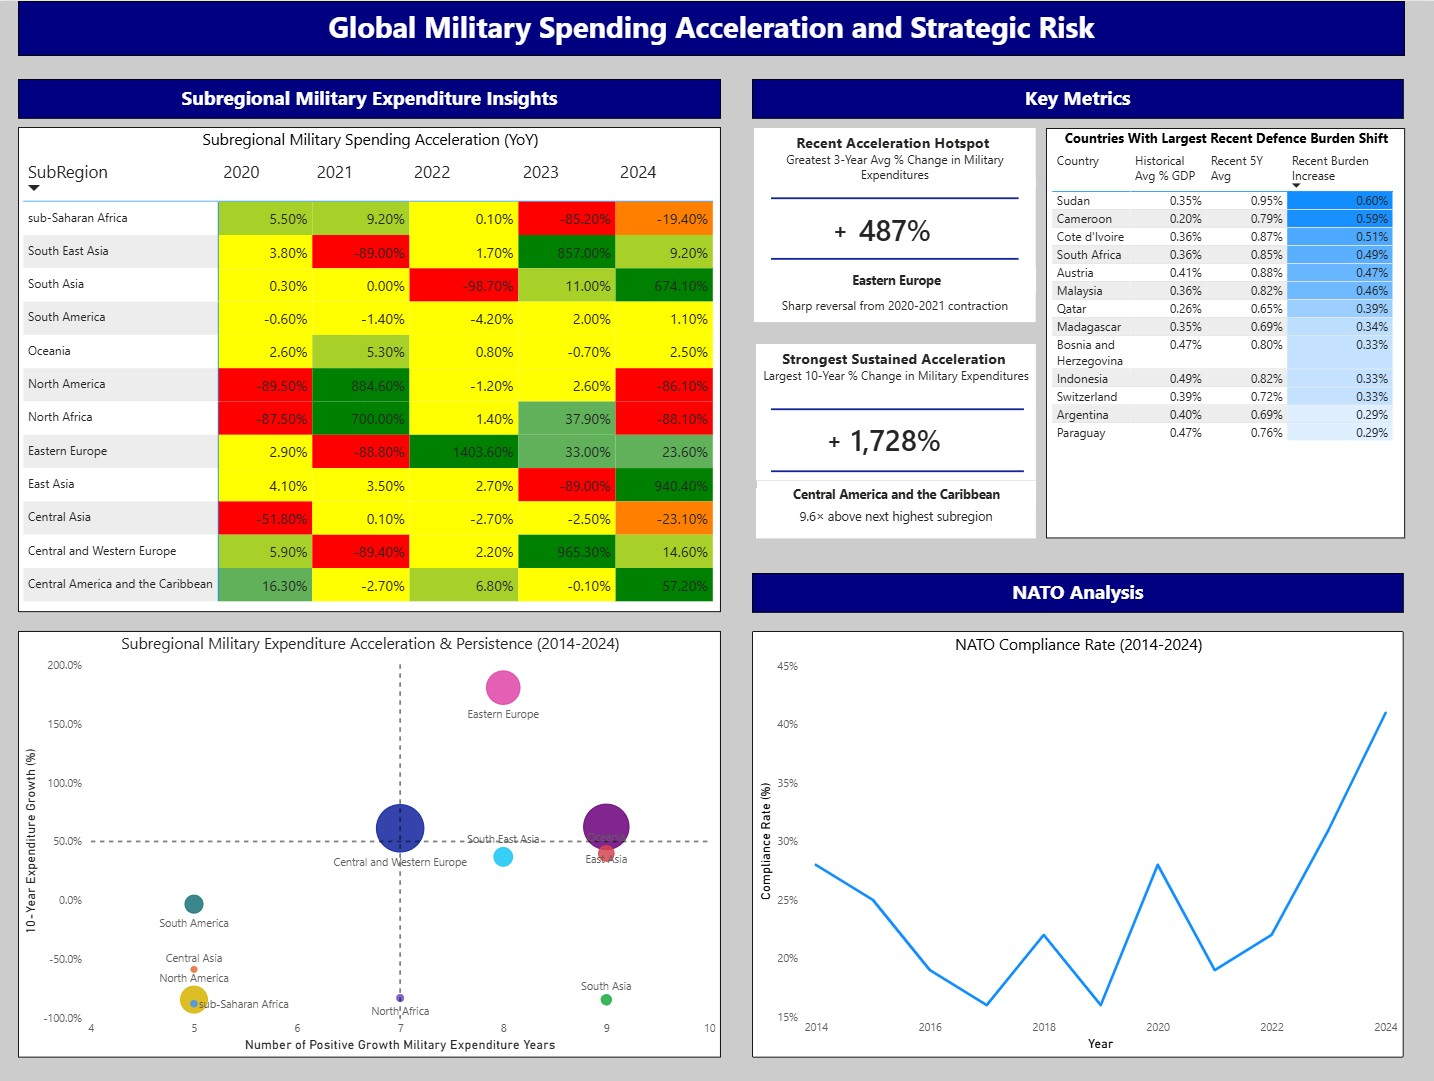

Layout of this report page (visuals, bound fields, positions):
{"tool":"powerbi","page":{"name":"global_db","canvas":[1600,1200],"ordinal":0},"visuals":[{"type":"textbox","box":[21.8,0,1540.9,60.9],"z":0},{"type":"pivotTable","title":"Subregional Military Spending Acceleration (YoY)","fields":{"Rows":["Query3.SubRegion"],"Columns":["Query3.Year"],"Values":["Sum(Query3.Value)"]},"box":[22.5,140.3,781.2,538.6],"z":1000},{"type":"scatterChart","title":"Subregional Military Expenditure Acceleration & Persistence (2014-2024)","fields":{"X":["Sum(Query4.Num Positive Growth Years)"],"Y":["Sum(Query4.10-Year % Change)"],"Size":["Sum(Query4.Spend_2024)"],"Category":["Query4.SubRegion"],"Series":["Query4.SubRegion"]},"box":[22.5,700.3,781.2,474.1],"z":2000},{"type":"lineChart","title":"NATO Compliance Rate (2014-2024)","fields":{"Category":["Query8.Year"],"Y":["Sum(Query8.Compliance Rate %)"]},"box":[838,700,724,474],"z":3000},{"type":"textbox","box":[22.4,86.8,781.1,44.4],"z":4000},{"type":"textbox","box":[838,635,724,44],"z":5000},{"type":"textbox","box":[838,87,724,44],"z":6000},{"type":"cardVisual","fields":{"Data":["Max(Query4.10-Year % Change)"]},"box":[842,438,311,95],"z":7000},{"type":"textbox","box":[842,381,311,66],"z":8000},{"type":"textbox","box":[842,541,311,56],"z":9000},{"type":"shape","box":[859,441,281,25],"z":10000},{"type":"shape","box":[859,510,281,25],"z":11000},{"type":"textbox","box":[840,308,313,49],"z":12000},{"type":"cardVisual","fields":{"Data":["Avg(Query3.Value)"]},"box":[840,197,313,111],"z":13000},{"type":"textbox","box":[840,141,313,66],"z":14000},{"type":"shape","box":[859,207,275,25],"z":15000},{"type":"shape","box":[859,270,275,33],"z":16000},{"type":"textbox","box":[843,295,310,29],"z":17000},{"type":"textbox","box":[843,533,310,29],"z":18000},{"type":"textbox","box":[918,232,36,48],"z":19000},{"type":"textbox","box":[911,466,36,44],"z":20000},{"type":"tableEx","title":"Countries With Largest Recent Defence Burden Shift","fields":{"Values":["Query5.Country","Avg(Query5.Historical AVG % GDP)","Sum(Query5.Recent 5-Year Avg)","Sum(Query5.Difference from Historical Avg)"]},"box":[1164,141,399,456],"z":21000}]}

Visuals, with their boxes in screenshot pixels (x1, y1, x2, y2), scaled from the page's 1600x1200 canvas onto the 1434x1081 screenshot:
textbox: left=20, top=0, right=1401, bottom=55
"Subregional Military Spending Acceleration (YoY)" pivotTable: left=20, top=126, right=720, bottom=612
"Subregional Military Expenditure Acceleration & Persistence (2014-2024)" scatterChart: left=20, top=631, right=720, bottom=1058
"NATO Compliance Rate (2014-2024)" lineChart: left=751, top=631, right=1400, bottom=1058
textbox: left=20, top=78, right=720, bottom=118
textbox: left=751, top=572, right=1400, bottom=612
textbox: left=751, top=78, right=1400, bottom=118
cardVisual - Max(Query4.10-Year % Change): left=755, top=395, right=1033, bottom=480
textbox: left=755, top=343, right=1033, bottom=403
textbox: left=755, top=487, right=1033, bottom=538
shape: left=770, top=397, right=1022, bottom=420
shape: left=770, top=459, right=1022, bottom=482
textbox: left=753, top=277, right=1033, bottom=322
cardVisual - Avg(Query3.Value): left=753, top=177, right=1033, bottom=277
textbox: left=753, top=127, right=1033, bottom=186
shape: left=770, top=186, right=1016, bottom=209
shape: left=770, top=243, right=1016, bottom=273
textbox: left=756, top=266, right=1033, bottom=292
textbox: left=756, top=480, right=1033, bottom=506
textbox: left=823, top=209, right=855, bottom=252
textbox: left=816, top=420, right=849, bottom=459
"Countries With Largest Recent Defence Burden Shift" tableEx: left=1043, top=127, right=1401, bottom=538
